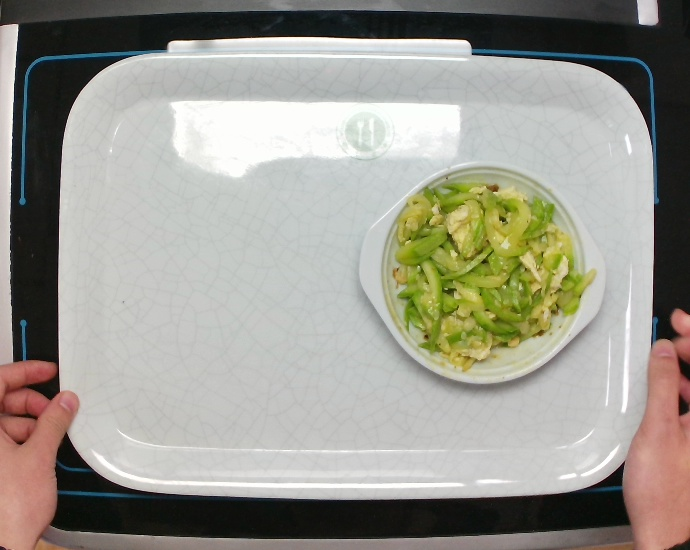JYsf-Shuang_Er_Pan: (347, 154, 623, 389)
